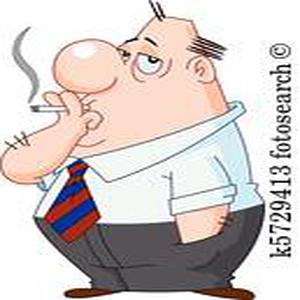cigarette: (27, 103, 70, 113)
